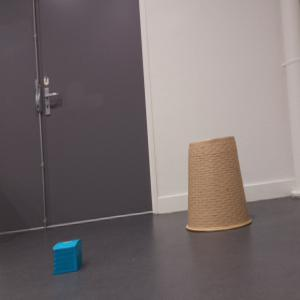medium: (185, 137, 257, 231)
small: (52, 238, 83, 276)
